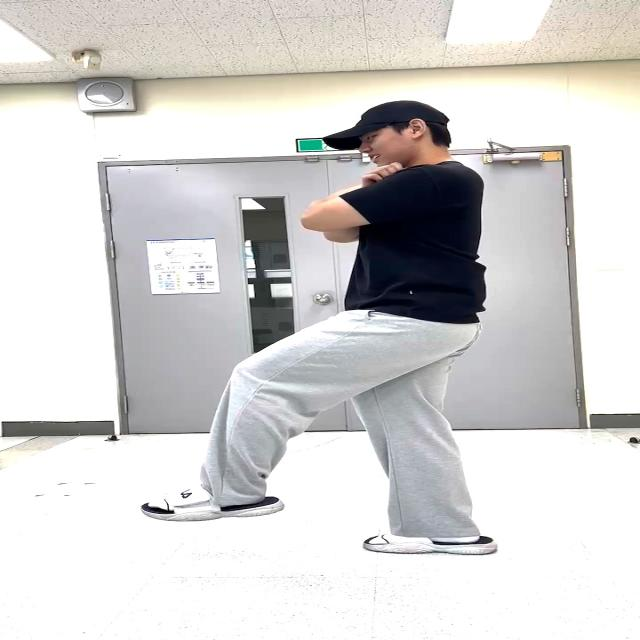leg: (118, 293, 392, 534)
